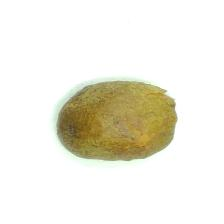NG: (155, 84, 179, 137), (57, 113, 86, 146)
